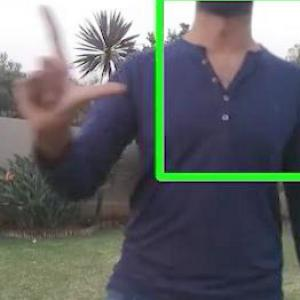land_hand: (5, 6, 128, 121)
